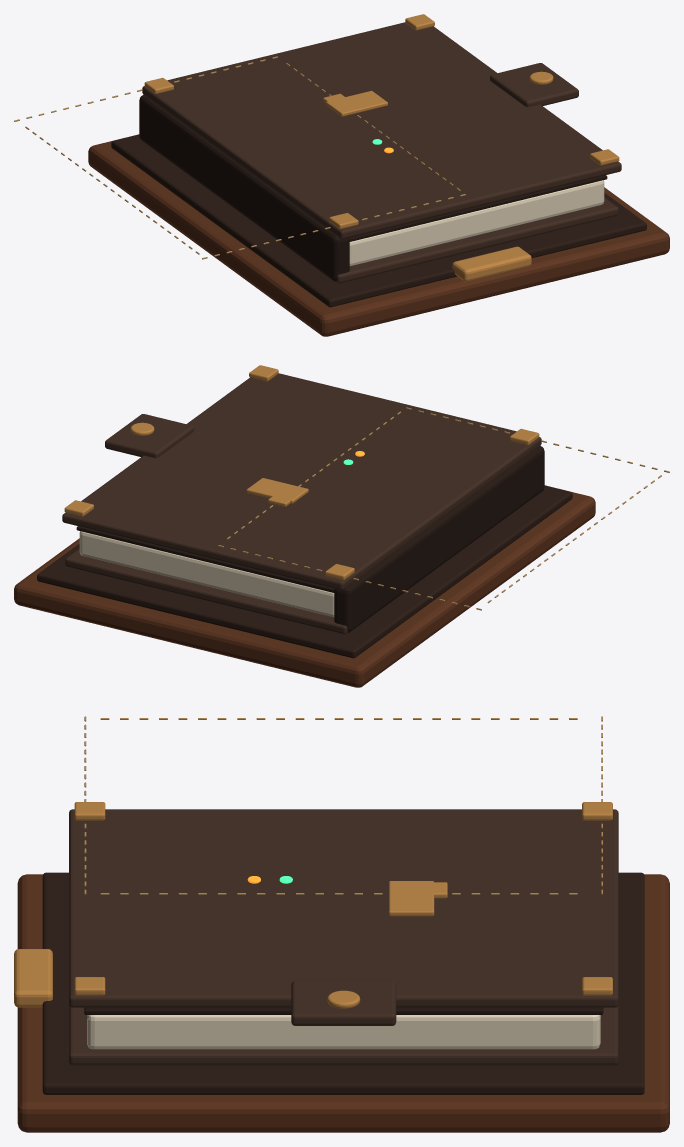
File: executive-project-folder.glb
The picture shows the model from 3 angles, top to bottom: view 1: azimuth 30°, elevation 25°; view 2: azimuth 150°, elevation 25°; view 3: azimuth 270°, elevation 25°; orthographic projection. The views are drawn at different scales.
Visible parts, largest first — view 1: Front_Cover, Walnut_Dock, Dock_Inset, Spine, Page_Block, Back_Cover, Leather_Strap, Bottom_Handle, Page_Shadow, Folder_Icon_Base; view 2: Front_Cover, Walnut_Dock, Dock_Inset, Spine, Page_Block, Back_Cover, Leather_Strap, Page_Shadow, Folder_Icon_Base; view 3: Front_Cover, Walnut_Dock, Dock_Inset, Page_Block, Back_Cover, Leather_Strap, Page_Shadow, Bottom_Handle, Folder_Icon_Base.
Boxes of the visible parts, x1,y1,x2,y2 form: Front_Cover: (142, 22, 621, 239); Walnut_Dock: (88, 141, 669, 336); Dock_Inset: (111, 134, 646, 307); Spine: (139, 94, 349, 281); Page_Block: (349, 180, 604, 265); Back_Cover: (336, 198, 618, 283); Leather_Strap: (490, 63, 578, 107); Bottom_Handle: (452, 246, 531, 281); Page_Shadow: (349, 175, 607, 241); Folder_Icon_Base: (326, 90, 387, 116); Front_Cover: (62, 373, 541, 590); Walnut_Dock: (14, 492, 595, 687); Dock_Inset: (37, 485, 572, 658); Spine: (334, 445, 544, 632); Page_Block: (79, 531, 334, 616); Back_Cover: (65, 549, 347, 634); Leather_Strap: (105, 414, 193, 458); Page_Shadow: (76, 526, 334, 592); Folder_Icon_Base: (246, 478, 308, 503); Front_Cover: (69, 809, 618, 1007); Walnut_Dock: (17, 874, 669, 1132); Dock_Inset: (42, 872, 644, 1094); Page_Block: (87, 1015, 600, 1049); Back_Cover: (69, 1005, 618, 1065); Leather_Strap: (291, 980, 396, 1025); Page_Shadow: (84, 1007, 603, 1014); Bottom_Handle: (14, 949, 52, 1007); Folder_Icon_Base: (389, 881, 434, 916).
Size of the model in its own units: 6.75 by 1.35 by 6.16.
